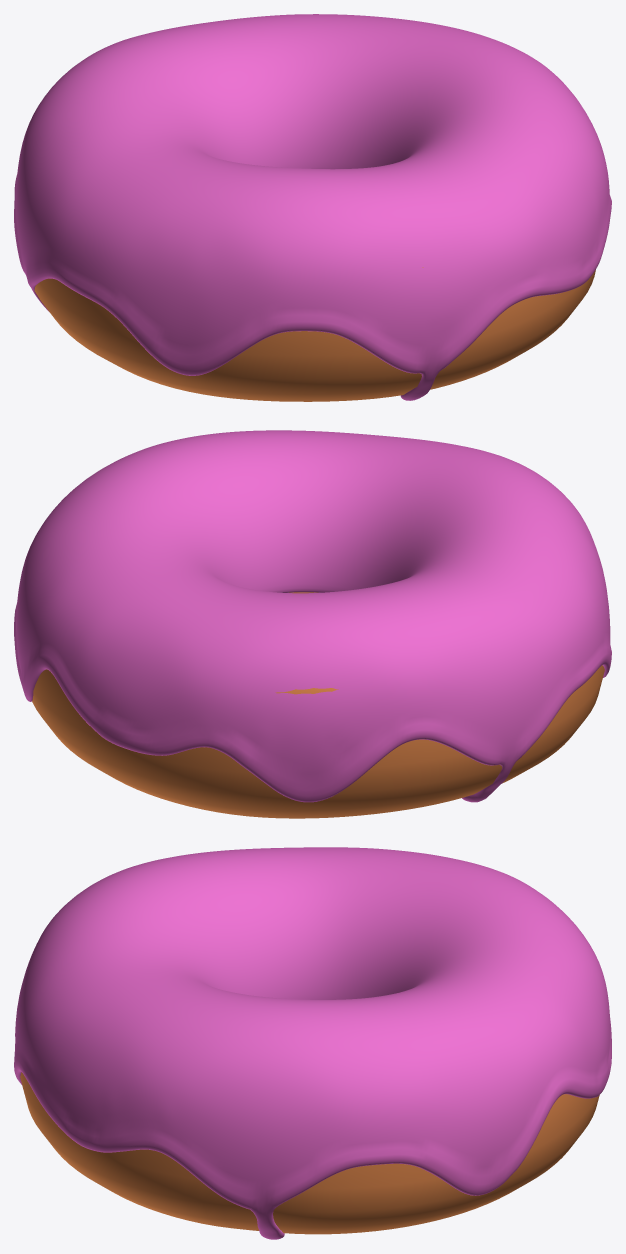
The model's file is donut.glb.
3 views of the same model, one above another, from view 1: azimuth 30°, elevation 25°; view 2: azimuth 150°, elevation 25°; view 3: azimuth 270°, elevation 25° (orthographic).
Visible parts, largest first — view 1: Icing, Donut; view 2: Icing, Donut; view 3: Icing, Donut.
Boxes of the visible parts, x1=… form: Icing: x1=14, y1=14, x2=611, y2=400; Donut: x1=34, y1=267, x2=595, y2=401; Icing: x1=14, y1=430, x2=611, y2=802; Donut: x1=32, y1=592, x2=604, y2=818; Icing: x1=14, y1=847, x2=611, y2=1239; Donut: x1=20, y1=1072, x2=599, y2=1234.
Bounding box in the file's own units: 3.09 × 1.25 × 3.09.
